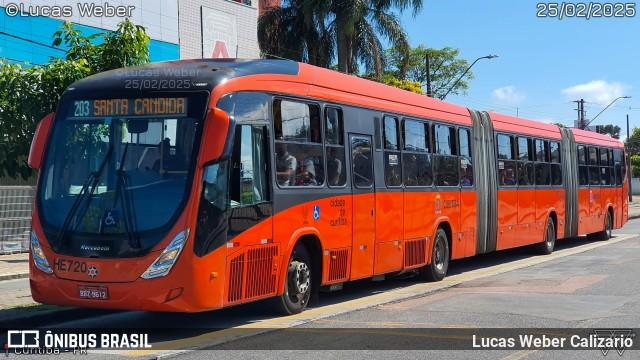SANTA CANDIDA: (89, 96, 192, 118)
